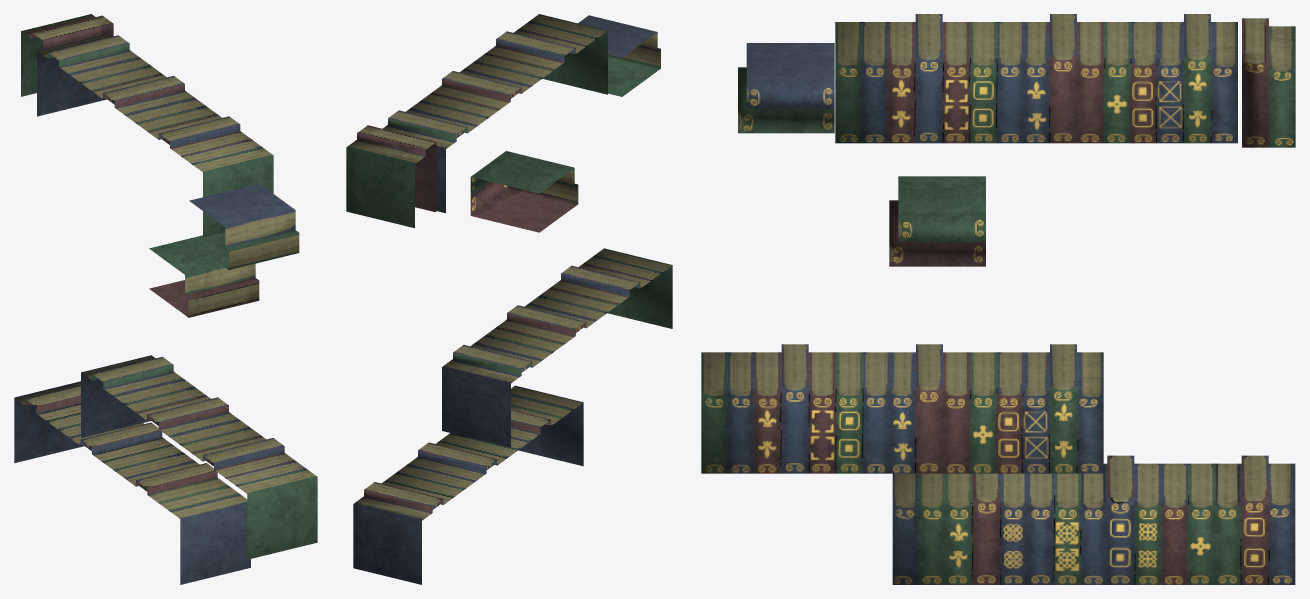
The model's file is BookCaseFill_A_02.fbx.
3 renders of one model, left to right at view 1: azimuth 30°, elevation 25°; view 2: azimuth 150°, elevation 25°; view 3: azimuth 270°, elevation 25°, orthographic. The views are drawn at different scales.
Visible parts, largest first — view 1: BookCaseFill_A_02; view 2: BookCaseFill_A_02; view 3: BookCaseFill_A_02.
Part boxes in pixels (box(x1,y1,x2,y2)): BookCaseFill_A_02: box(14, 14, 317, 584); BookCaseFill_A_02: box(346, 14, 672, 584); BookCaseFill_A_02: box(701, 14, 1295, 584).
Size of the model in its own units: 32.79 by 147 by 150.
